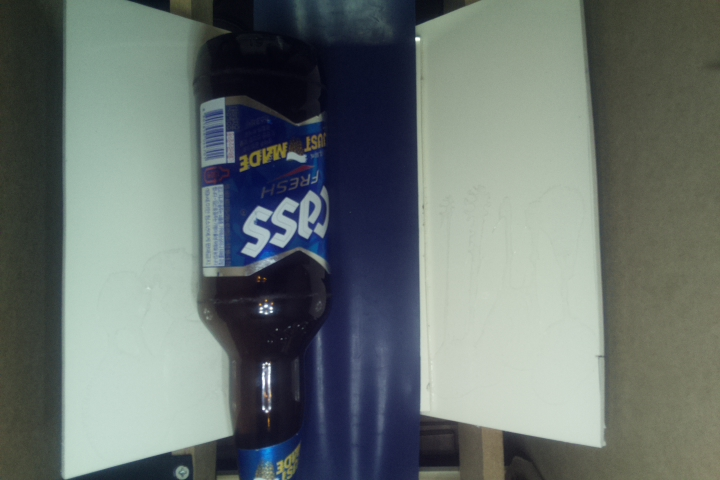makju: (194, 37, 329, 480)
